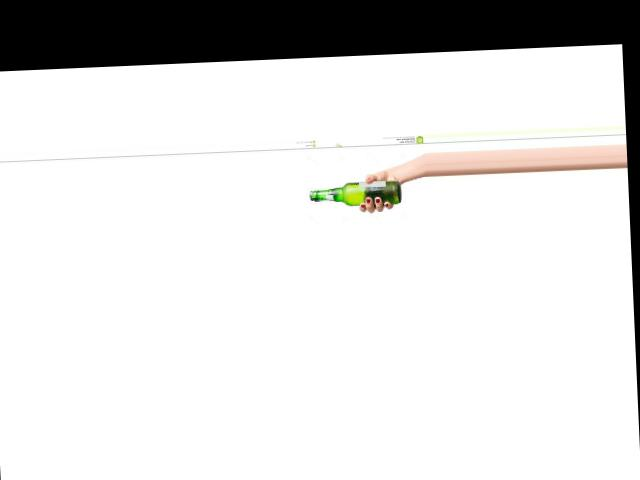beer: (308, 179, 401, 207)
